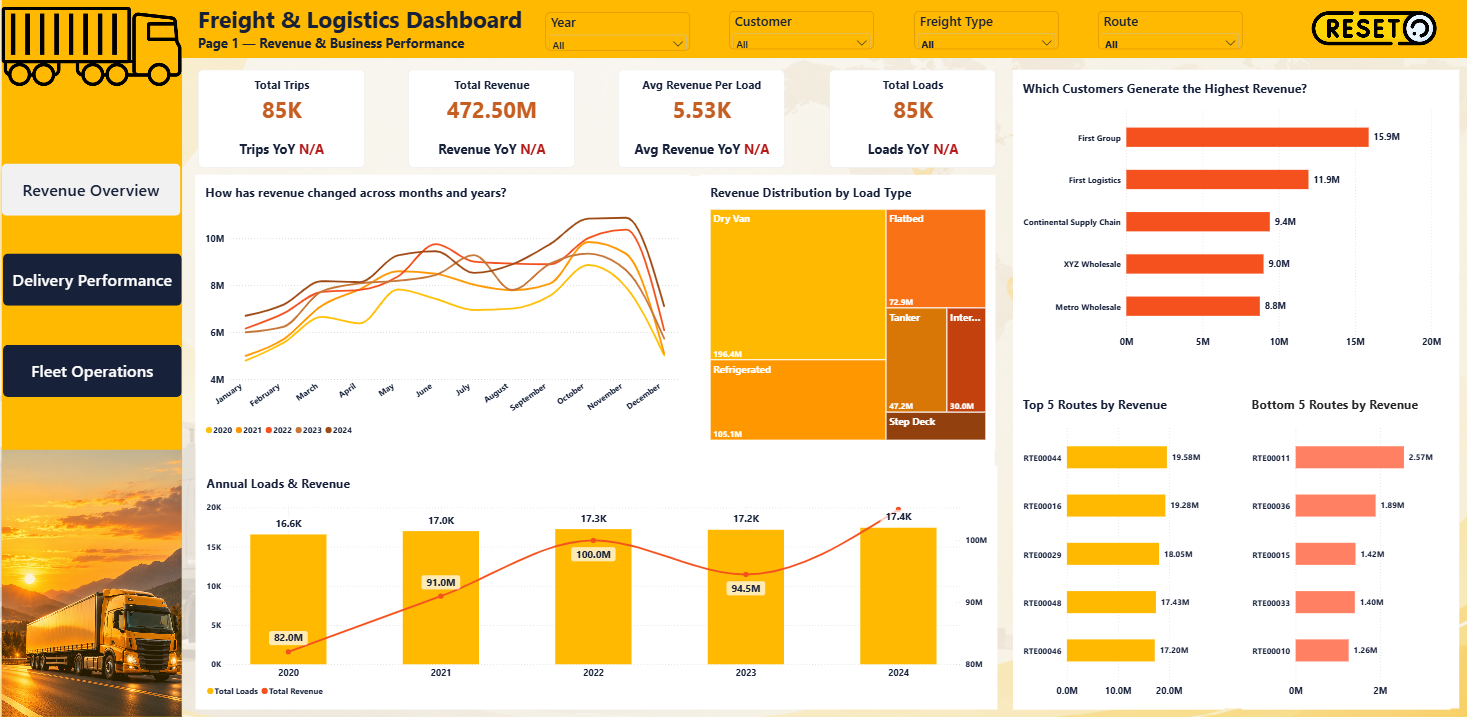

This screenshot's page, from the dashboard's own definition file:
{"tool":"powerbi","page":{"name":"Revenue & Business Performance","canvas":[2400,1180],"ordinal":0},"visuals":[{"type":"shape","box":[1657.1,120.4,728.6,1042.9],"z":0},{"type":"shape","box":[323.3,293,1304.7,869.8],"z":1000},{"type":"cardVisual","fields":{"Data":["_measures.Total Revenue"]},"box":[669.1,120.8,272,160],"z":2000},{"type":"cardVisual","fields":{"Data":["_measures.Total Loads"]},"box":[1356.2,120.8,272,160],"z":4000},{"type":"cardVisual","fields":{"Data":["_measures.Average Revenue per Load"]},"box":[1012.2,120.8,272.9,160],"z":5000},{"type":"shape","box":[297.9,2.1,2101.1,98.9],"z":6000},{"type":"lineChart","title":"How has revenue changed across months and years?","fields":{"Category":["loads.load_date.Variation.Date Hierarchy.Month"],"Series":["loads.load_date.Variation.Date Hierarchy.Year"],"Y":["_measures.Total Revenue"]},"box":[322.9,291.7,806.1,446.9],"z":7000},{"type":"clusteredBarChart","title":"Which Customers Generate the Highest Revenue?","fields":{"Category":["customers.customer_name"],"Y":["_measures.Total Revenue"]},"box":[1656.5,121.7,715.2,473.9],"z":8000},{"type":"treemap","title":"Revenue Distribution by Load Type","fields":{"Group":["loads.load_type"],"Values":["_measures.Total Revenue"]},"box":[1147.9,291.7,481.6,449],"z":9000},{"type":"clusteredBarChart","title":"Top 5 Routes by Revenue","fields":{"Category":["routes.route_id"],"Y":["_measures.Total Revenue"]},"box":[1657.1,638.1,345.2,526.2],"z":10000},{"type":"clusteredBarChart","title":"Bottom 5 Routes by Revenue","fields":{"Category":["routes.route_id"],"Y":["_measures.Total Revenue"]},"box":[2031,638.1,340.5,526.2],"z":11000},{"type":"lineClusteredColumnComboChart","title":"Annual Loads & Revenue","fields":{"Category":["loads.load_date.Variation.Date Hierarchy.Year"],"Y":["_measures.Total Loads"],"Y2":["_measures.Total Revenue"]},"box":[323.8,766.7,1307.1,397.6],"z":12000},{"type":"textbox","box":[326,12,542.9,55.2],"z":13000},{"type":"image","box":[69.7,209,169.4,83.7],"z":14000},{"type":"textbox","box":[326,62,452.8,35],"z":15000},{"type":"slicer","fields":{"Values":["loads.load_date.Variation.Date Hierarchy.Year"]},"box":[894,26,235.9,62.8],"z":16000},{"type":"slicer","fields":{"Values":["customers.customer_name"]},"box":[1194.6,25,235.9,62.8],"z":17000},{"type":"slicer","fields":{"Values":["loads.load_type"]},"box":[1495.2,25,235.9,62.8],"z":18000},{"type":"slicer","fields":{"Values":["routes.route_id"]},"box":[1795.8,25,235.9,62.8],"z":19000},{"type":"shape","box":[6.7,0,294.4,1179.8],"z":20000},{"type":"image","box":[2145.8,18.8,204.2,68.8],"z":21000},{"type":"image","box":[6.2,12.5,293.8,139.6],"z":22000},{"type":"image","box":[6.2,741.7,293.8,437.5],"z":23000},{"type":"actionButton","box":[6.2,272.9,291.7,85.4],"z":24000},{"type":"actionButton","box":[8.3,420.8,291.7,85.4],"z":25000},{"type":"actionButton","box":[8.3,568.8,291.7,85.4],"z":26000},{"type":"cardVisual","fields":{"Data":["_measures.Total Trips"]},"box":[326.5,120.4,272,160],"z":26001}]}

Visuals, with their boxes in screenshot pixels (x1, y1, x2, y2), scaled from the page's 2400x1180 canvas onto the 1467x717 screenshot:
shape: (left=1013, top=73, right=1458, bottom=707)
shape: (left=198, top=178, right=995, bottom=707)
cardVisual - _measures.Total Revenue: (left=409, top=73, right=575, bottom=171)
cardVisual - _measures.Total Loads: (left=829, top=73, right=995, bottom=171)
cardVisual - _measures.Average Revenue per Load: (left=619, top=73, right=786, bottom=171)
shape: (left=182, top=1, right=1466, bottom=61)
"How has revenue changed across months and years?" lineChart: (left=197, top=177, right=690, bottom=449)
"Which Customers Generate the Highest Revenue?" clusteredBarChart: (left=1013, top=74, right=1450, bottom=362)
"Revenue Distribution by Load Type" treemap: (left=702, top=177, right=996, bottom=450)
"Top 5 Routes by Revenue" clusteredBarChart: (left=1013, top=388, right=1224, bottom=707)
"Bottom 5 Routes by Revenue" clusteredBarChart: (left=1241, top=388, right=1450, bottom=707)
"Annual Loads & Revenue" lineClusteredColumnComboChart: (left=198, top=466, right=997, bottom=707)
textbox: (left=199, top=7, right=531, bottom=41)
image: (left=43, top=127, right=146, bottom=178)
textbox: (left=199, top=38, right=476, bottom=59)
slicer - loads.load_date.Variation.Date Hierarchy.Year: (left=546, top=16, right=691, bottom=54)
slicer - customers.customer_name: (left=730, top=15, right=874, bottom=53)
slicer - loads.load_type: (left=914, top=15, right=1058, bottom=53)
slicer - routes.route_id: (left=1098, top=15, right=1242, bottom=53)
shape: (left=4, top=0, right=184, bottom=716)
image: (left=1312, top=11, right=1436, bottom=53)
image: (left=4, top=8, right=183, bottom=92)
image: (left=4, top=451, right=183, bottom=716)
actionButton: (left=4, top=166, right=182, bottom=218)
actionButton: (left=5, top=256, right=183, bottom=308)
actionButton: (left=5, top=346, right=183, bottom=398)
cardVisual - _measures.Total Trips: (left=200, top=73, right=366, bottom=170)
